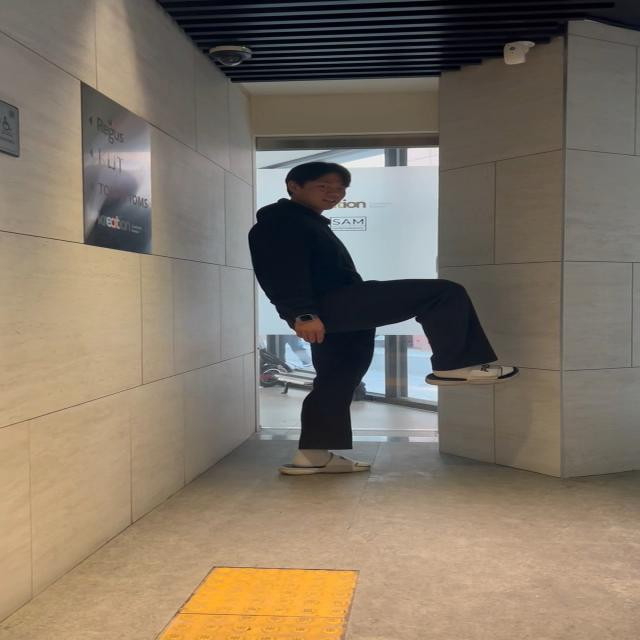knee: (302, 274, 526, 392)
